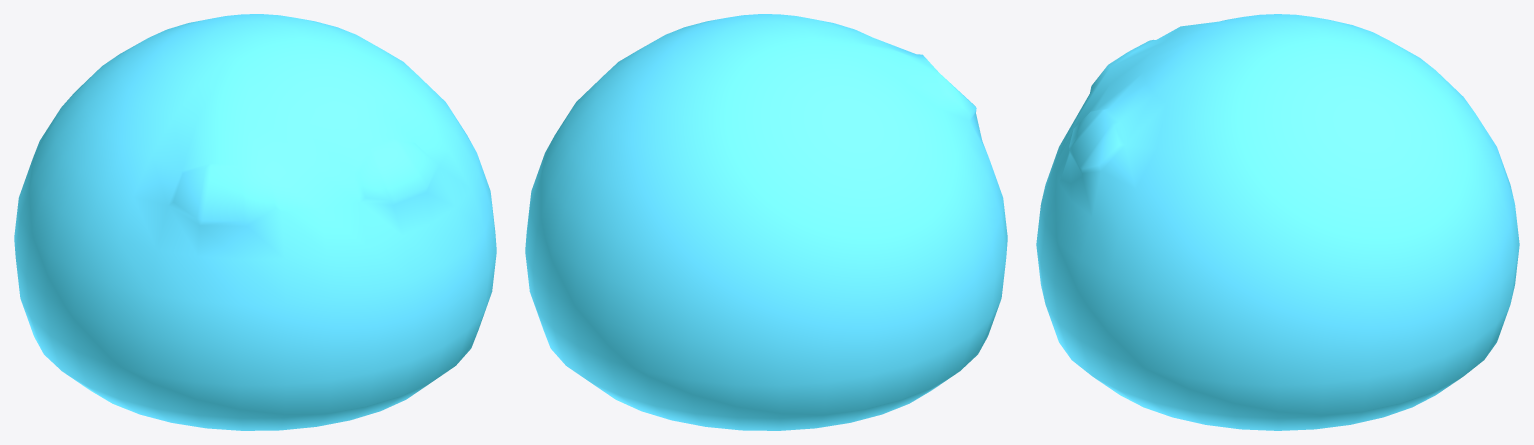
Rendered from PatriciaSlimeBlue.fbx.
3 views of the same model, side by side, from view 1: azimuth 30°, elevation 25°; view 2: azimuth 150°, elevation 25°; view 3: azimuth 270°, elevation 25° (orthographic).
Visible parts, largest first — view 1: Sphere; view 2: Sphere; view 3: Sphere.
Boxes of the visible parts, x1,y1,x2,y2 form: Sphere: [14, 14, 496, 430]; Sphere: [525, 14, 1007, 430]; Sphere: [1036, 14, 1519, 430].
Size of the model in its own units: 200 by 154 by 200.
